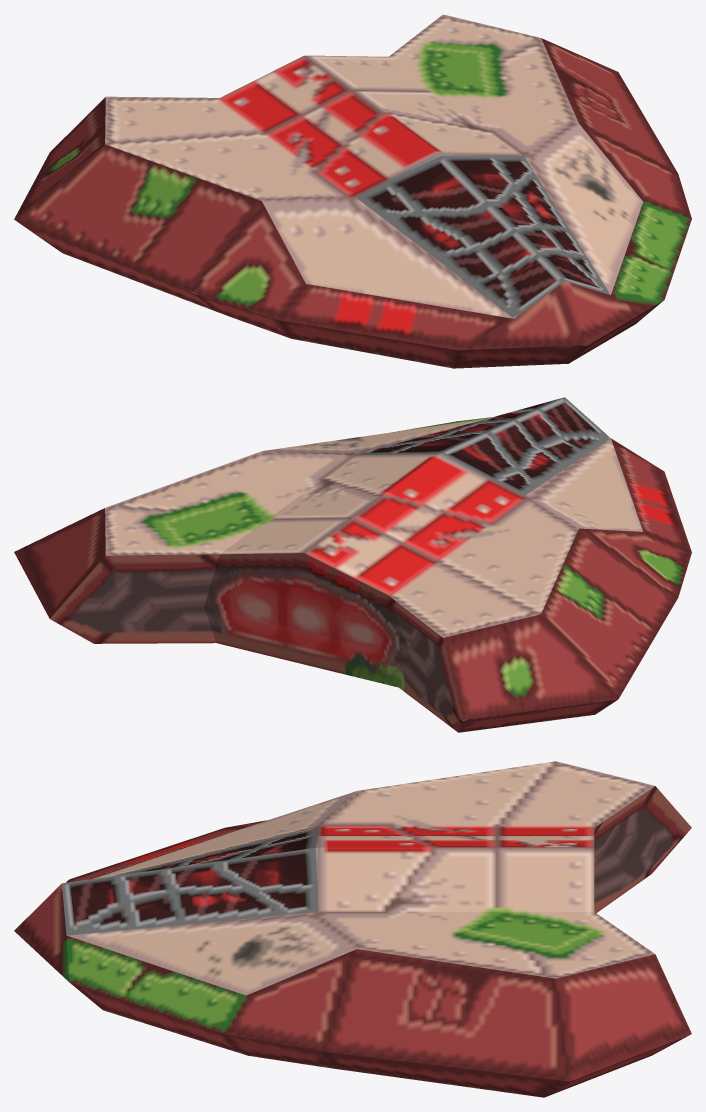
File: hull_Viking.fbx
3 renders of one model, top to bottom at view 1: azimuth 30°, elevation 25°; view 2: azimuth 150°, elevation 25°; view 3: azimuth 270°, elevation 25°, orthographic. The views are drawn at different scales.
Parts seen in each view (by area): view 1: hull_Arrowhead; view 2: hull_Arrowhead; view 3: hull_Arrowhead.
Boxes of the visible parts, box(x1,y1,x2,y2) form: hull_Arrowhead: box(14, 14, 691, 368); hull_Arrowhead: box(14, 397, 691, 732); hull_Arrowhead: box(14, 761, 691, 1097).
Bounding box in the file's own units: 5.85 × 1.06 × 5.56.
